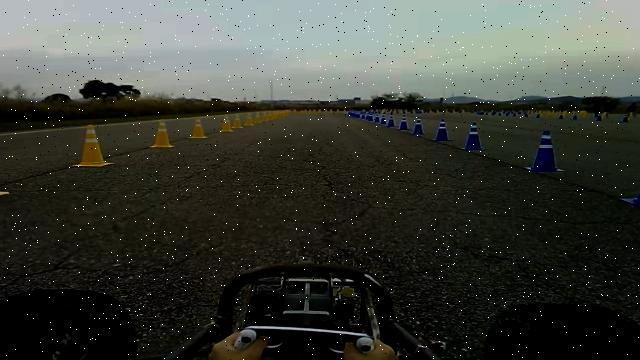blue cone: (525, 130, 566, 173), (461, 121, 488, 151), (432, 118, 454, 142), (619, 189, 640, 208), (412, 116, 426, 135), (398, 113, 409, 130), (387, 114, 396, 127), (380, 111, 388, 124), (348, 111, 359, 118), (374, 112, 380, 124), (360, 111, 365, 120), (368, 114, 373, 122), (365, 112, 369, 122)
yellow cone: (71, 124, 115, 168), (148, 118, 176, 148), (187, 118, 209, 138), (220, 116, 234, 132), (232, 115, 244, 129), (244, 112, 254, 126), (254, 111, 264, 124), (261, 111, 271, 122)
